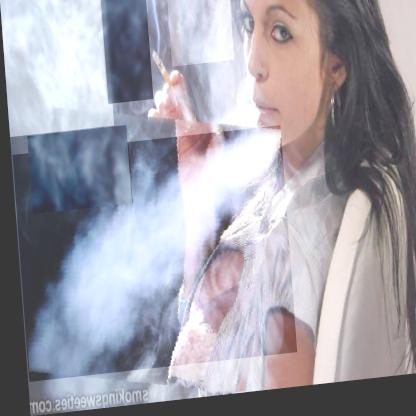smoke: (21, 136, 278, 377), (0, 0, 112, 137), (25, 128, 129, 215), (100, 0, 152, 106), (166, 0, 232, 71)
